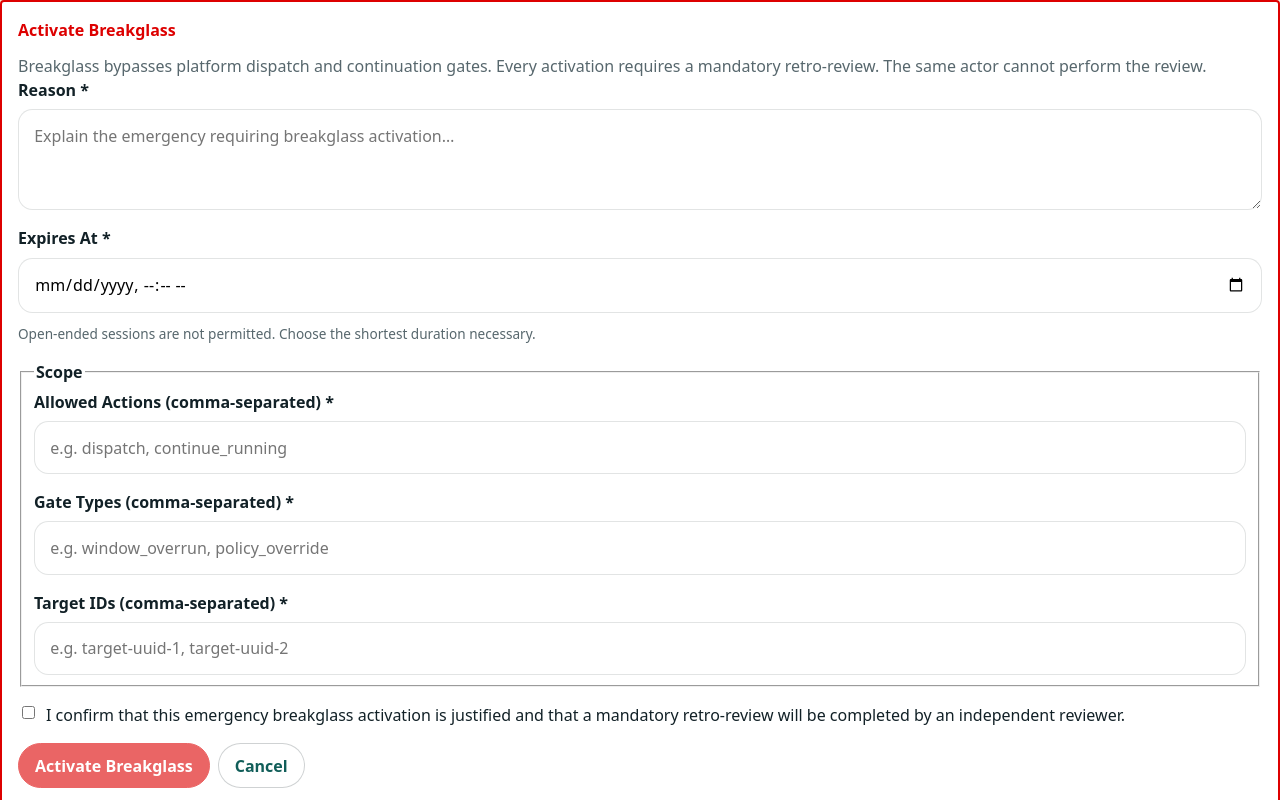
Scenario: BreakglassActivationModal › rejects submission with empty scope fields
The width and height of the screenshot is (1280, 800).
Type "Emergency" into the text box labelled "Reason *" at (640, 160), box x1=18 y1=109 x2=1262 y2=210
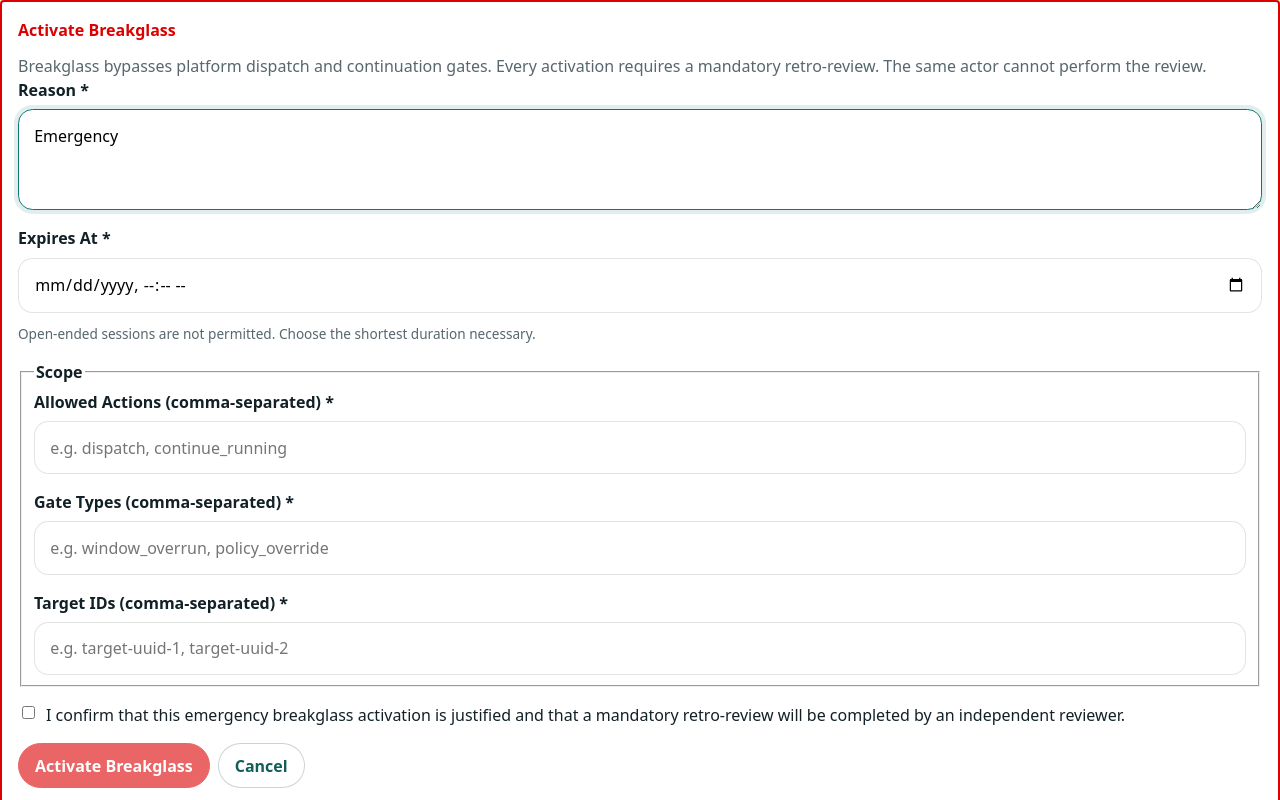
Type "2099-01-01T12:00" into the field labelled "Expires At *" at (640, 285), box x1=18 y1=258 x2=1262 y2=313
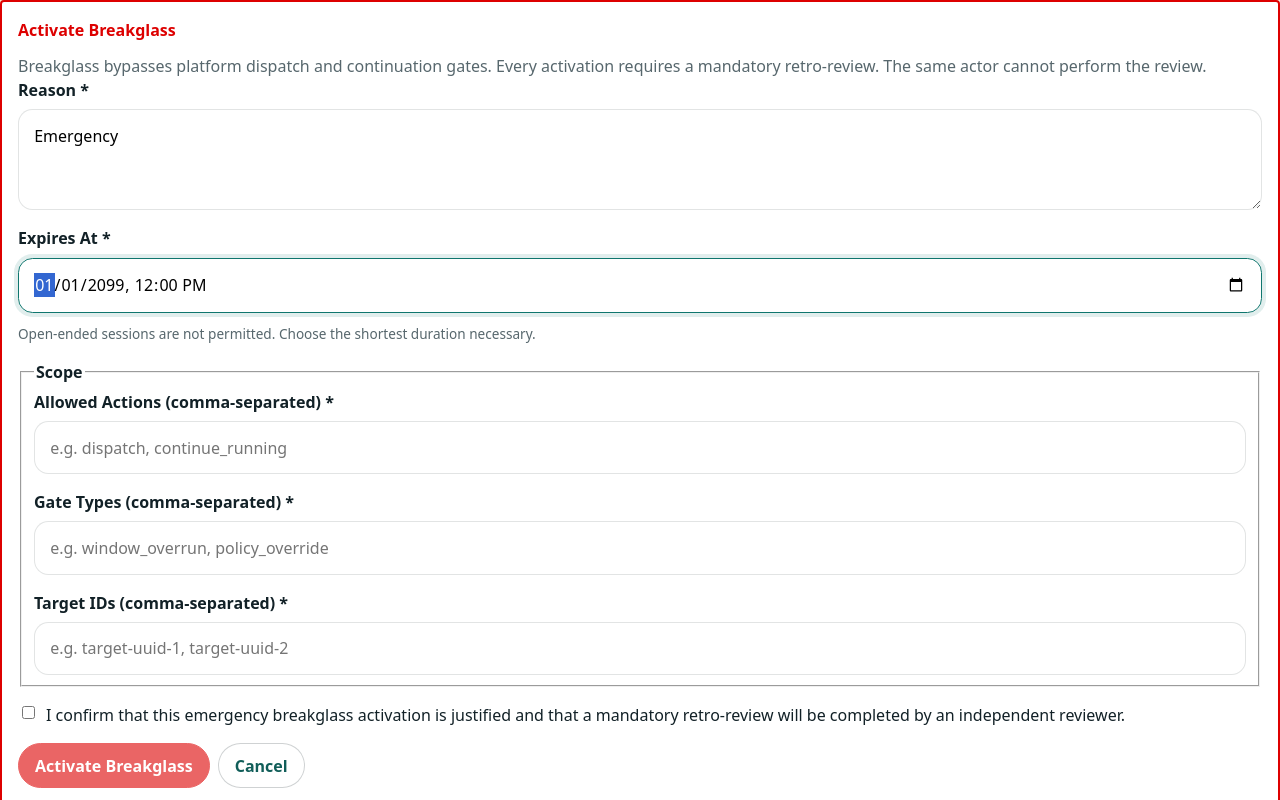
# Leave allowed actions empty
Click the checkbox named "confirm breakglass activation" at (28, 712), box x1=22 y1=706 x2=35 y2=719
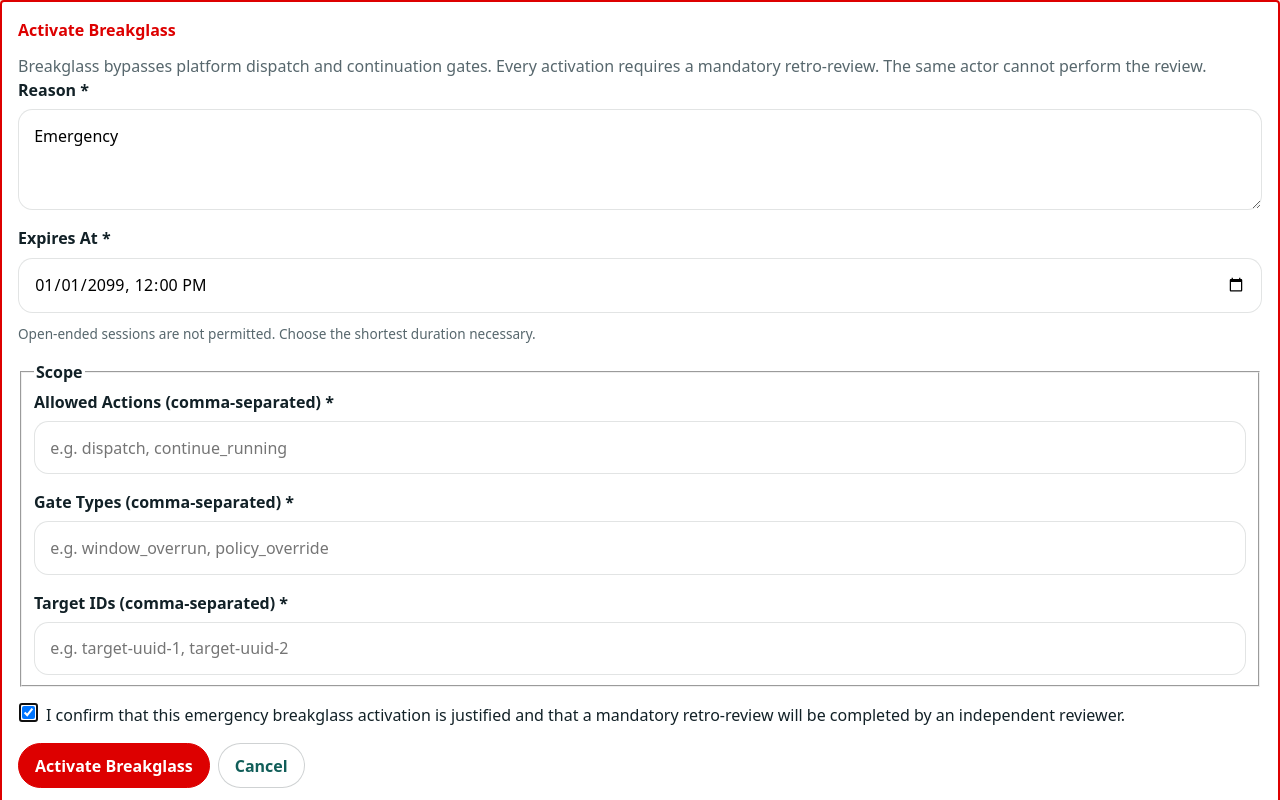
Click the button "Activate Breakglass" at (114, 766), box x1=18 y1=743 x2=210 y2=788
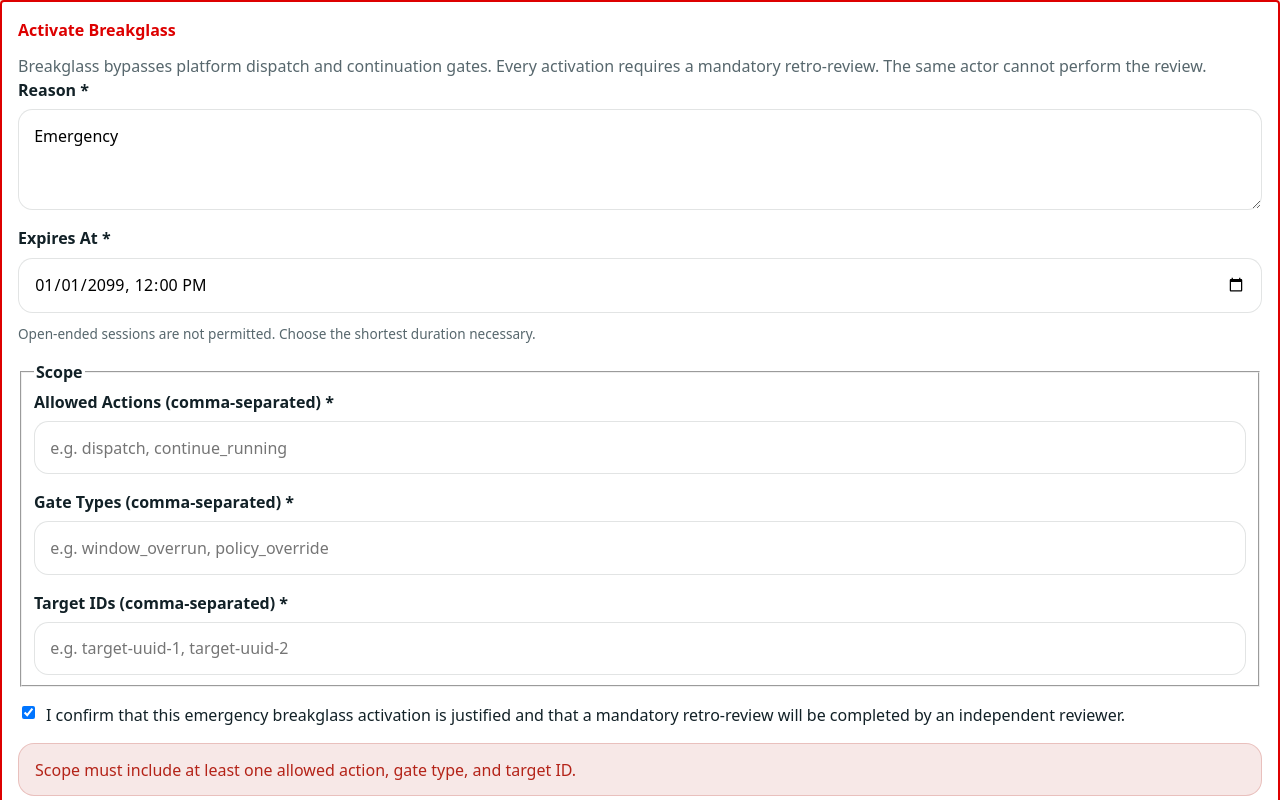
Check: the text "Scope must include" is shown, box x1=35 y1=759 x2=576 y2=781
